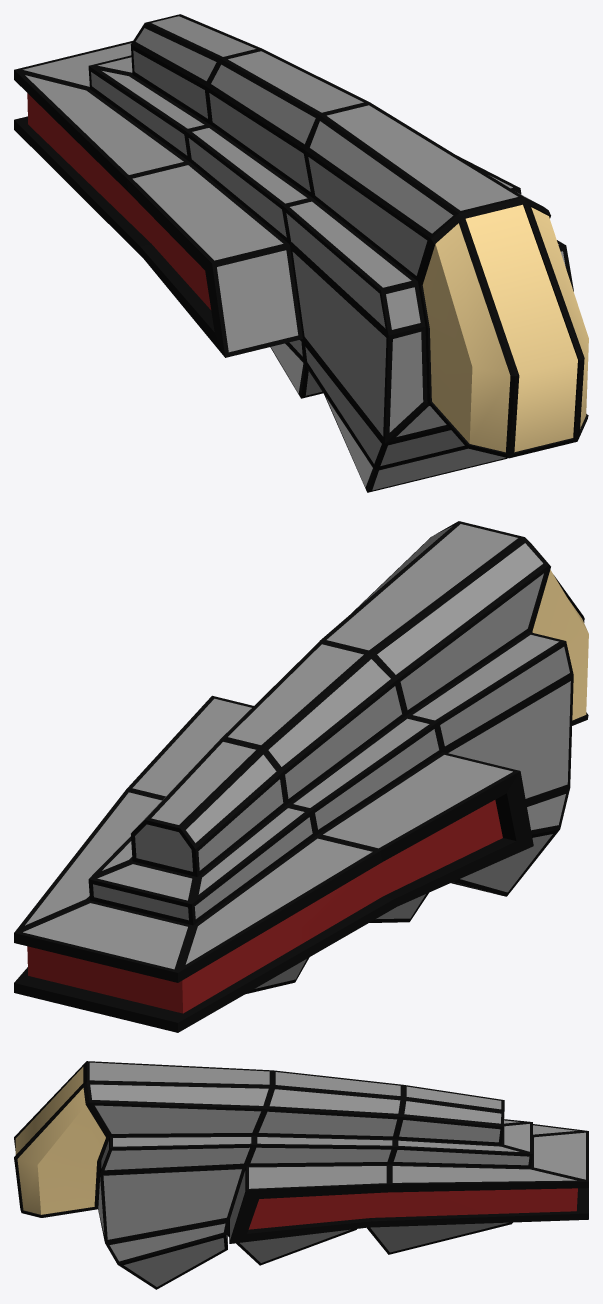
The model's file is Ship ai 3.FBX.
3 renders of one model, top to bottom at view 1: azimuth 30°, elevation 25°; view 2: azimuth 150°, elevation 25°; view 3: azimuth 270°, elevation 25°, orthographic. The views are drawn at different scales.
Parts seen in each view (by area): view 1: Object004; view 2: Object004; view 3: Object004.
Part boxes in pixels (<box>): Object004: <box>14,14,588,492</box>; Object004: <box>14,521,588,1032</box>; Object004: <box>14,1061,588,1289</box>.
Bounding box in the file's own units: 29.44 × 28.32 × 74.93.
